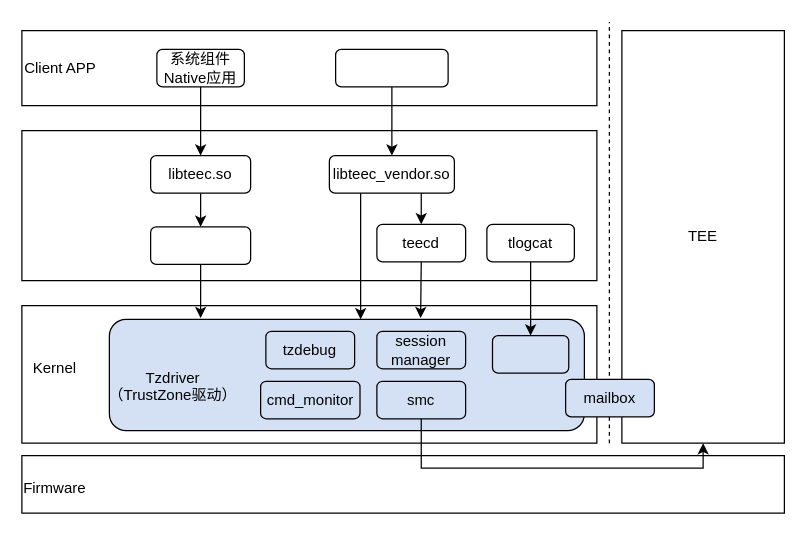
This 806x535 diagram has some shape labels left out. Here are the shapes that lost their labels. From the top down, the box of each, then its label:
(334, 48, 448, 87): 芯片组件 Native应用
(22, 199, 98, 236): TEE Client
(149, 226, 251, 264): cadaemon
(491, 334, 569, 373): tlogger
(21, 454, 784, 513): Secure Monitor
